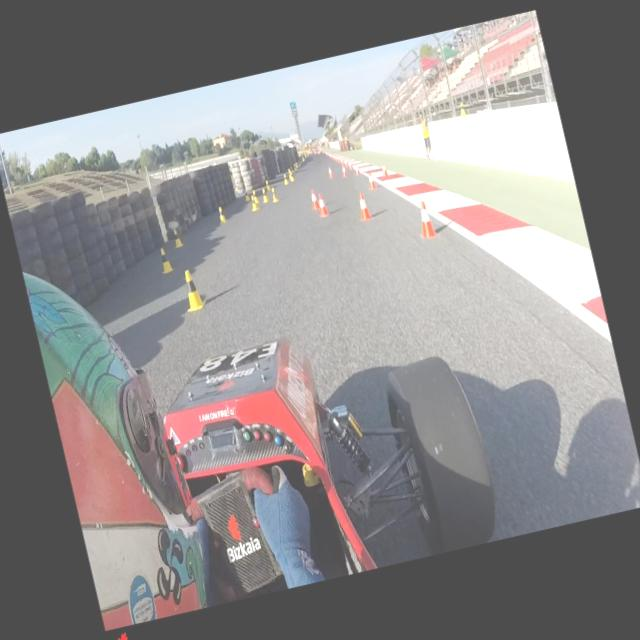orange_cone: (412, 198, 439, 240), (353, 191, 373, 222), (314, 191, 329, 218), (306, 187, 321, 211), (365, 170, 378, 191), (378, 160, 389, 178), (326, 164, 334, 178), (354, 164, 362, 176), (340, 165, 347, 178), (347, 158, 353, 170), (339, 156, 345, 167), (343, 157, 348, 167), (335, 155, 341, 162)
yellow_cone: (178, 267, 208, 313), (156, 245, 175, 274), (170, 227, 184, 249), (215, 204, 228, 223), (248, 194, 260, 212), (269, 187, 280, 203), (260, 187, 270, 203), (251, 188, 260, 204), (457, 102, 466, 115), (243, 188, 251, 200), (282, 172, 289, 185), (233, 182, 240, 192), (264, 180, 271, 190), (288, 170, 294, 180), (288, 168, 294, 176), (293, 162, 297, 170), (295, 162, 298, 168)
